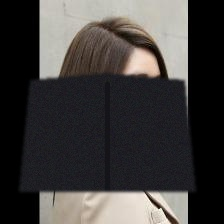Cadar_Niqab: (19, 14, 195, 191)
